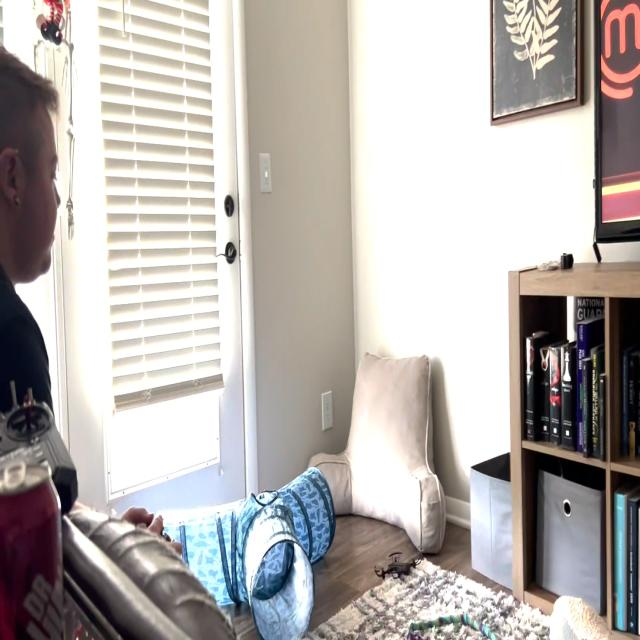drone: (369, 540, 432, 596)
